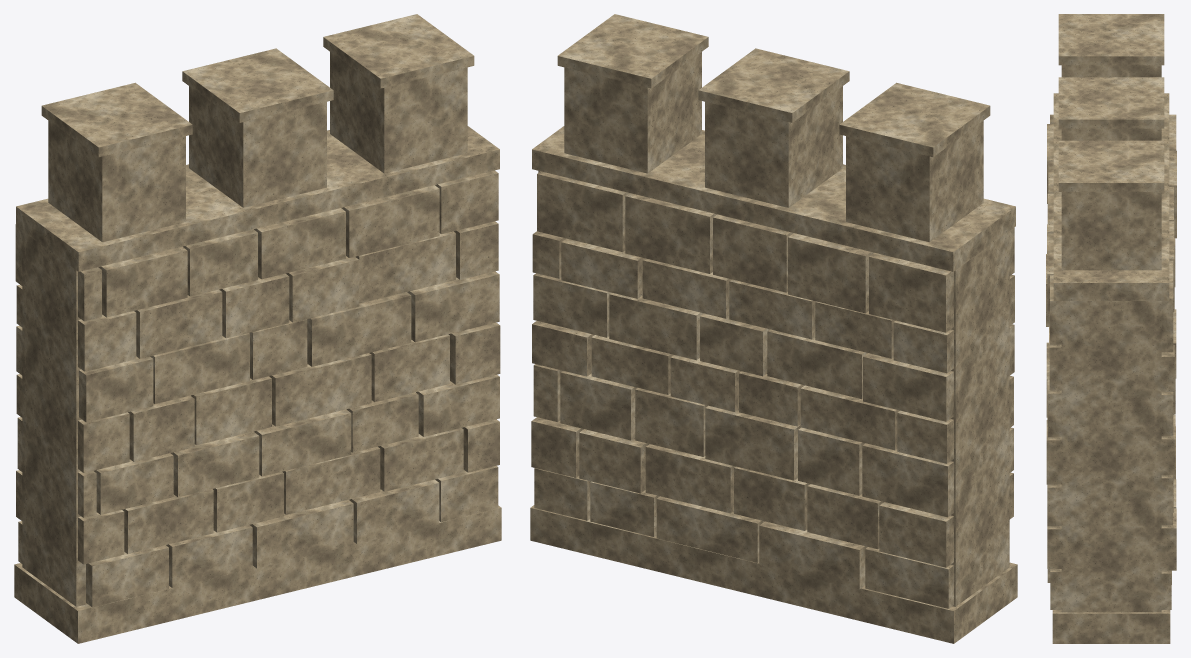
The model's file is mura_tratto.gltf.
3 renders of one model, left to right at view 1: azimuth 30°, elevation 25°; view 2: azimuth 150°, elevation 25°; view 3: azimuth 270°, elevation 25°, orthographic. The views are drawn at different scales.
Visible parts, largest first — view 1: mura_tratto; view 2: mura_tratto; view 3: mura_tratto.
Part boxes in pixels (<box>): mura_tratto: <box>14,14,501,643</box>; mura_tratto: <box>530,14,1017,643</box>; mura_tratto: <box>1046,14,1176,643</box>.
Size of the model in its own units: 4.06 by 4.47 by 1.18.
Materials: 1 (1 with a texture image).
